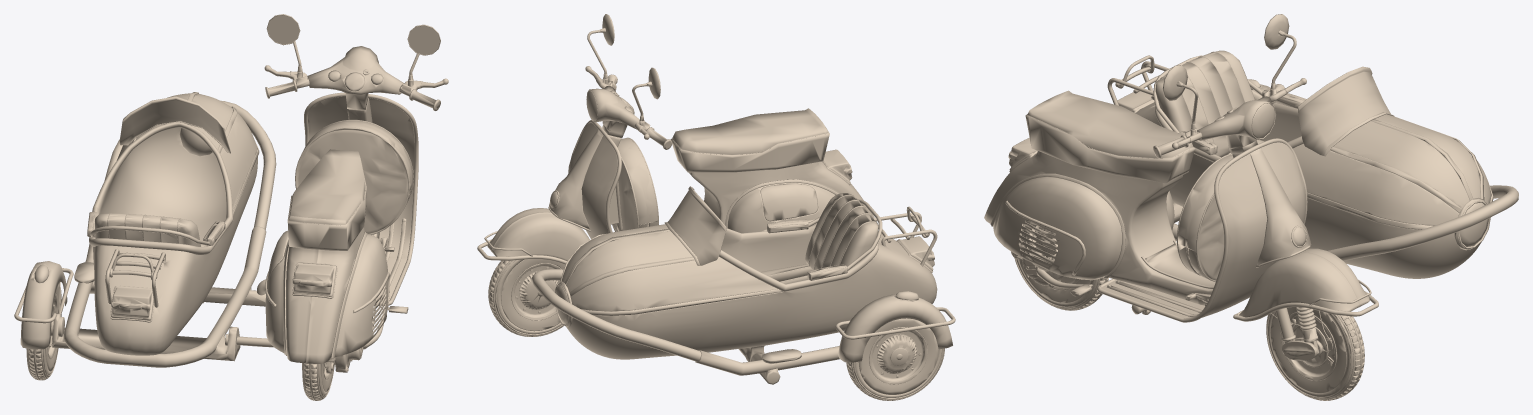
Rendered from moto.glb.
The picture shows the model from 3 angles, left to right: view 1: azimuth 30°, elevation 25°; view 2: azimuth 150°, elevation 25°; view 3: azimuth 270°, elevation 25°; orthographic projection. The views are drawn at different scales.
Visible parts, largest first — view 1: Motorcycle 011; view 2: Motorcycle 011; view 3: Motorcycle 011.
Part boxes in pixels (x1,y1,x2,y2): Motorcycle 011: (14,14,448,400); Motorcycle 011: (477,14,955,400); Motorcycle 011: (984,14,1518,400).
Bounding box in the file's own units: 2.27 × 1.44 × 2.15.
